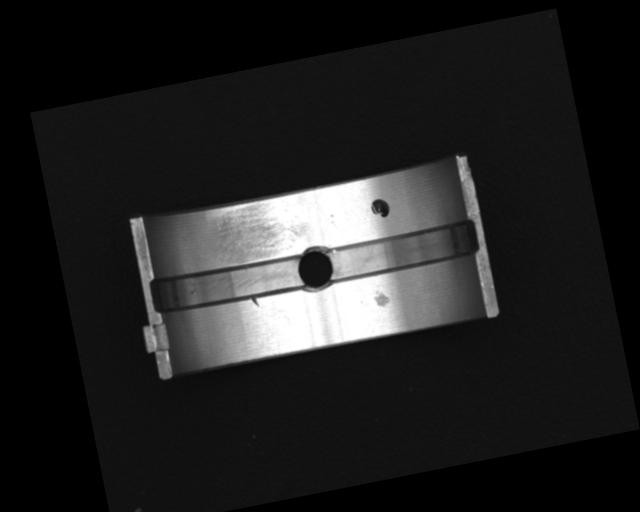blot: (368, 194, 391, 219)
bruise: (371, 288, 392, 310), (251, 296, 260, 308)
gap: (147, 249, 308, 320), (324, 217, 480, 284)
hole: (294, 242, 339, 294)
scratch: (207, 192, 314, 267)
